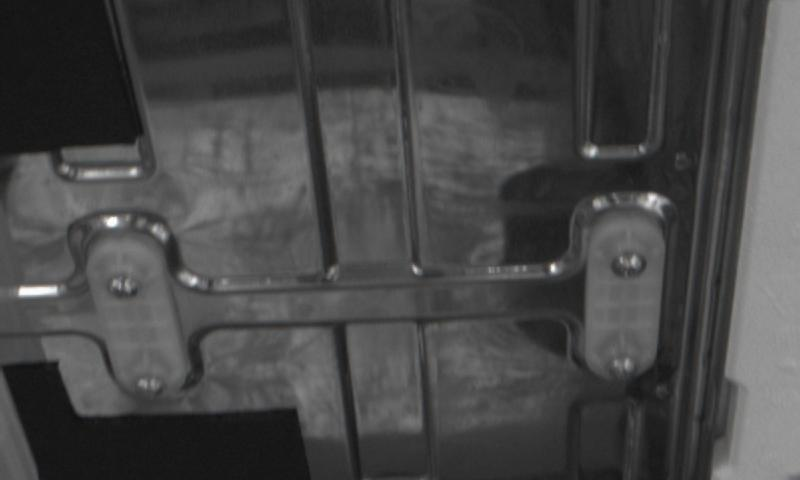vida-ok: (101, 264, 147, 308), (607, 239, 653, 282), (130, 367, 175, 407), (602, 352, 647, 391)
